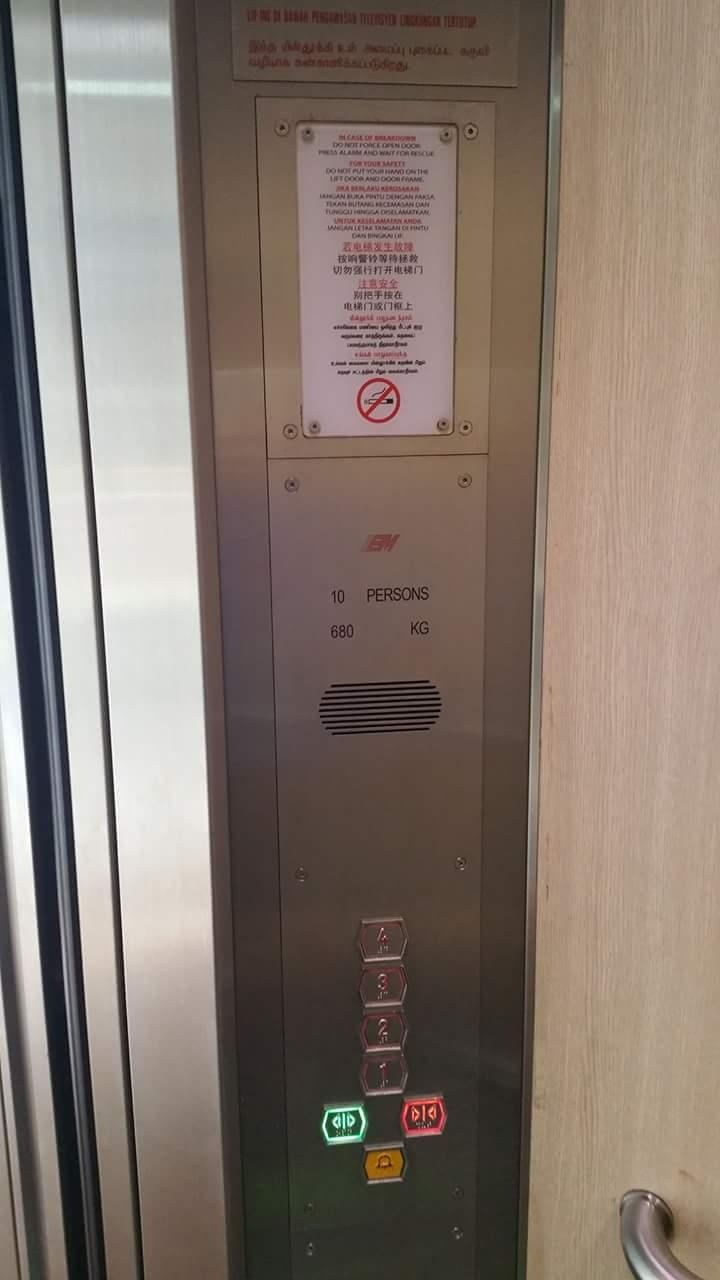1: (359, 1046, 410, 1095)
2: (358, 1008, 409, 1054)
3: (357, 963, 409, 1007)
4: (355, 914, 410, 963)
alarm: (360, 1141, 410, 1185)
close: (399, 1092, 448, 1138)
open: (318, 1101, 368, 1147)
